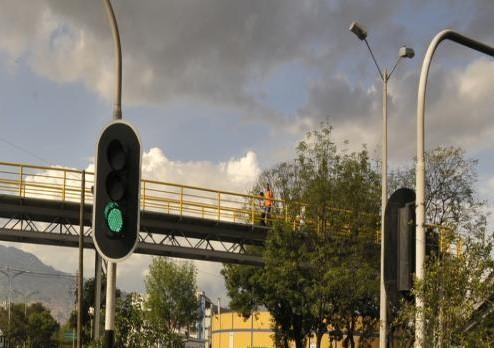green_light: (93, 119, 144, 262)
